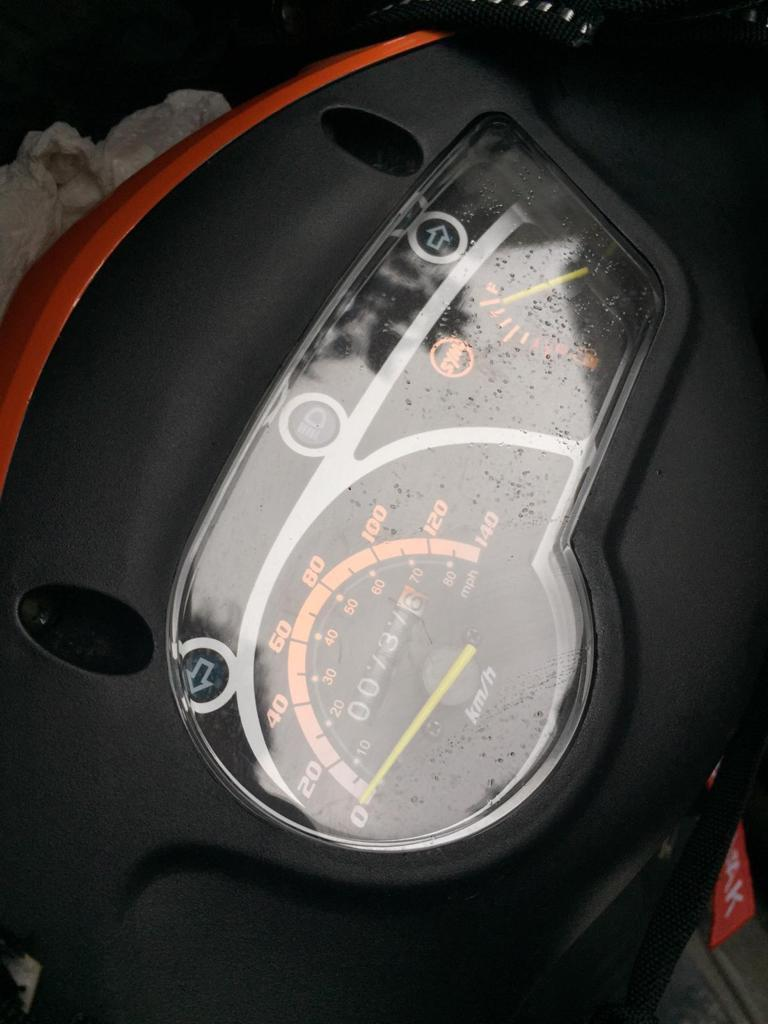0: (346, 700, 373, 722), (356, 676, 382, 697), (347, 597, 359, 607)
3: (376, 629, 402, 652)
5: (343, 604, 355, 615)
6: (401, 591, 425, 612), (369, 586, 382, 595)
7: (364, 652, 387, 674), (384, 609, 408, 628)
odometer: (338, 585, 436, 732)
